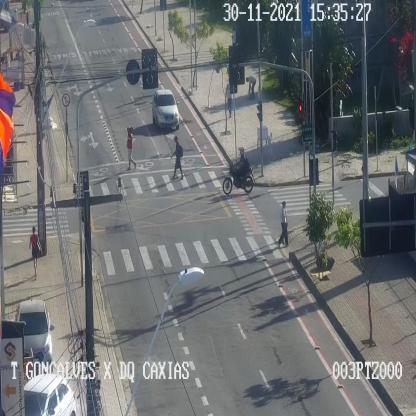car: (16, 301, 54, 366), (24, 374, 76, 416)
motorbike: (223, 146, 255, 194)
person: (29, 226, 41, 280), (172, 136, 184, 181), (278, 201, 289, 246), (126, 127, 136, 171), (226, 79, 233, 117), (246, 75, 255, 98), (232, 28, 236, 44)
